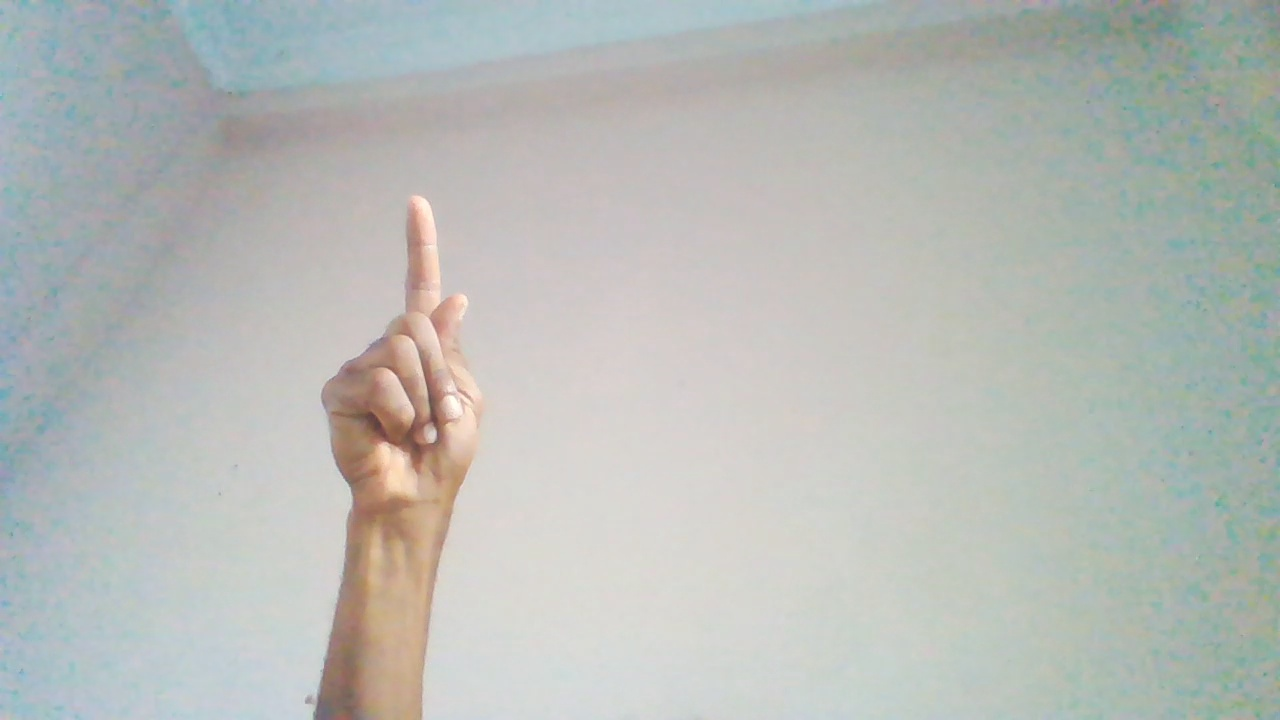ne: (315, 192, 485, 574)
